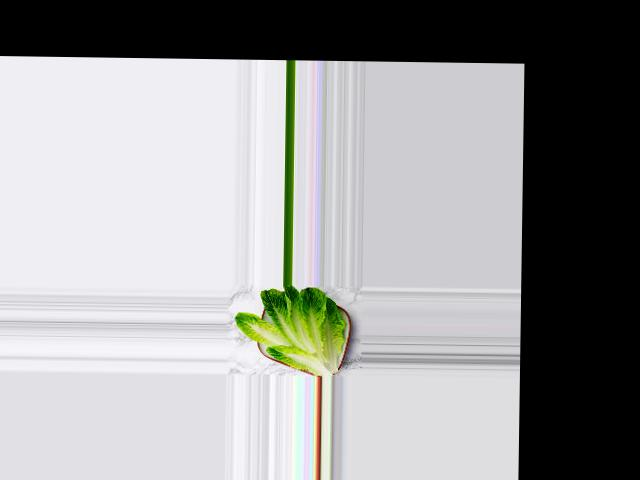lettuce: (232, 283, 353, 373)
